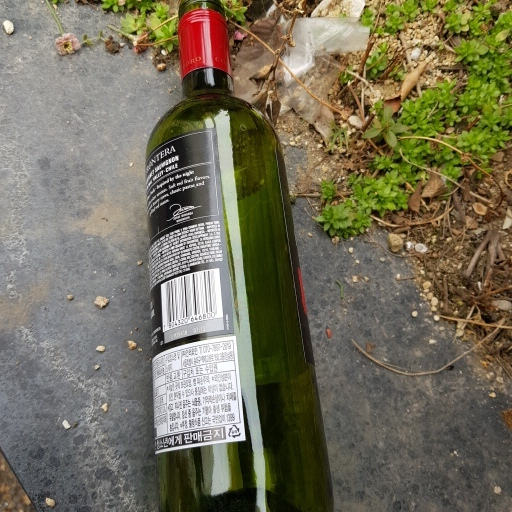Glass_2: (144, 1, 337, 512)
